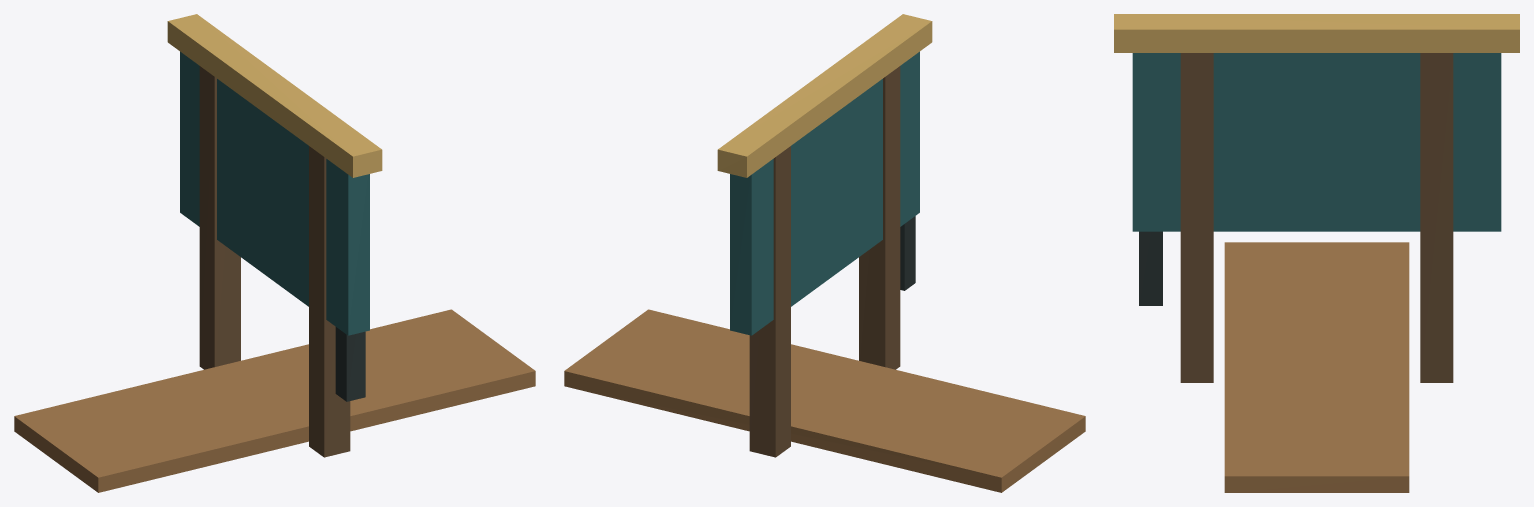
Rendered from farm-sign.source.glb.
3 views of the same model, side by side, from view 1: azimuth 30°, elevation 25°; view 2: azimuth 150°, elevation 25°; view 3: azimuth 270°, elevation 25° (orthographic). The views are drawn at different scales.
Parts seen in each view (by area): view 1: farm-sign-base-mesh, farm-sign-panel-mesh, farm-sign-top-trim-mesh, farm-sign-post--0.65-mesh, farm-sign-post-0.65-mesh, farm-sign-brace-mesh; view 2: farm-sign-base-mesh, farm-sign-panel-mesh, farm-sign-top-trim-mesh, farm-sign-post--0.65-mesh, farm-sign-post-0.65-mesh, farm-sign-brace-mesh; view 3: farm-sign-panel-mesh, farm-sign-base-mesh, farm-sign-top-trim-mesh, farm-sign-post--0.65-mesh, farm-sign-post-0.65-mesh, farm-sign-brace-mesh.
Part boxes in pixels (x1,y1,x2,y2): farm-sign-base-mesh: (14, 309, 535, 492); farm-sign-panel-mesh: (180, 51, 369, 335); farm-sign-top-trim-mesh: (167, 14, 382, 177); farm-sign-post--0.65-mesh: (199, 66, 240, 369); farm-sign-post-0.65-mesh: (309, 146, 350, 457); farm-sign-brace-mesh: (335, 327, 365, 401); farm-sign-base-mesh: (564, 309, 1085, 492); farm-sign-panel-mesh: (730, 51, 919, 335); farm-sign-top-trim-mesh: (717, 14, 932, 177); farm-sign-post--0.65-mesh: (749, 146, 790, 457); farm-sign-post-0.65-mesh: (859, 66, 900, 369); farm-sign-brace-mesh: (900, 216, 915, 290); farm-sign-panel-mesh: (1132, 53, 1501, 231); farm-sign-base-mesh: (1224, 242, 1409, 492); farm-sign-top-trim-mesh: (1114, 14, 1519, 52); farm-sign-post--0.65-mesh: (1420, 53, 1453, 382); farm-sign-post-0.65-mesh: (1180, 53, 1213, 382); farm-sign-brace-mesh: (1139, 231, 1162, 305).
Size of the model in its own units: 3 by 2.12 by 2.2.
